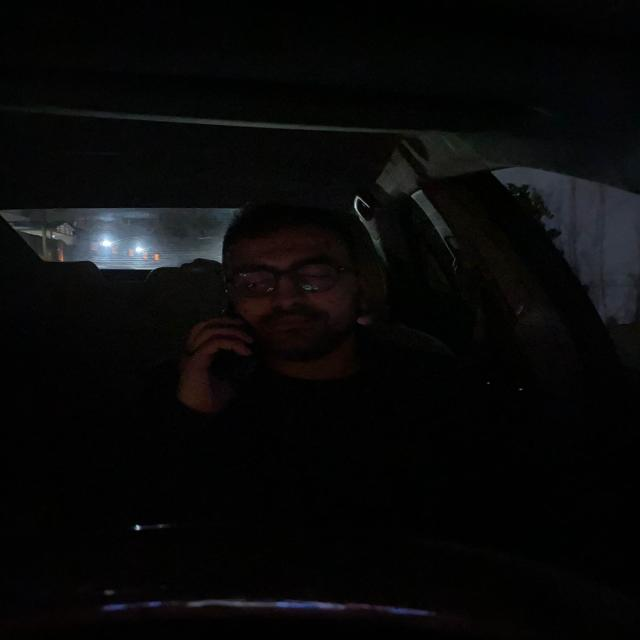phone: (214, 296, 245, 380)
